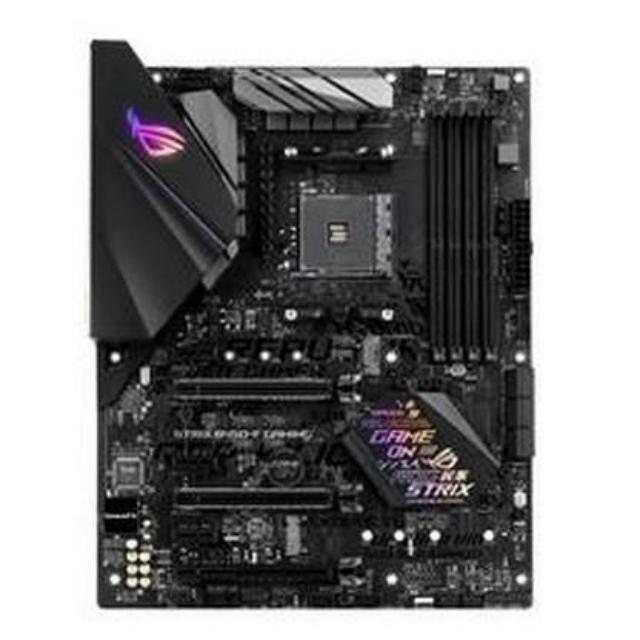Mainboard: (89, 54, 537, 608)
